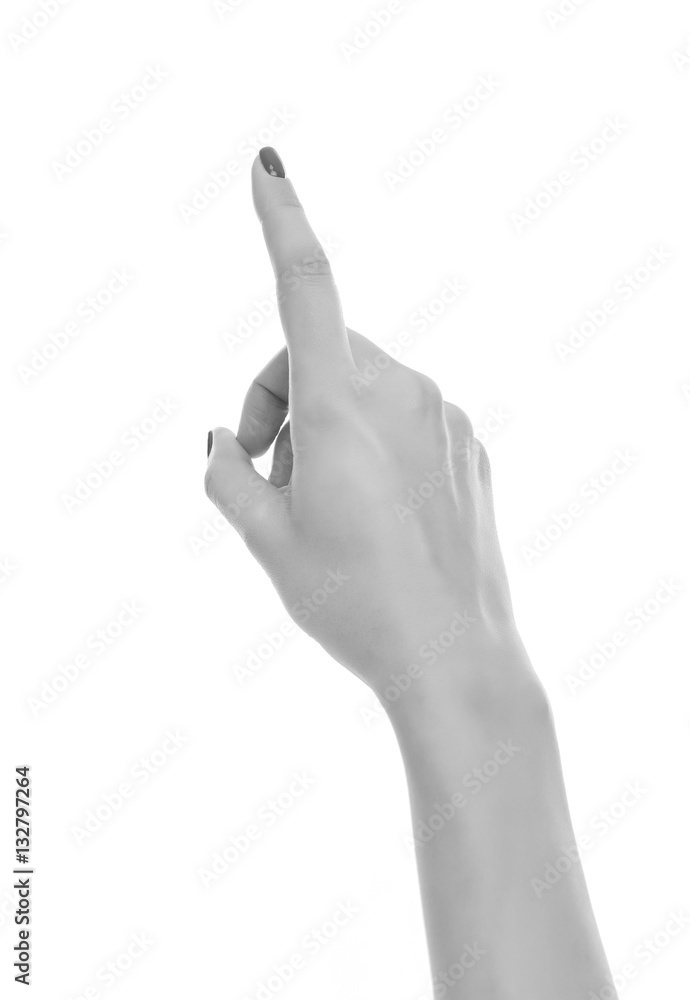pointing_gesture: (197, 138, 545, 697)
